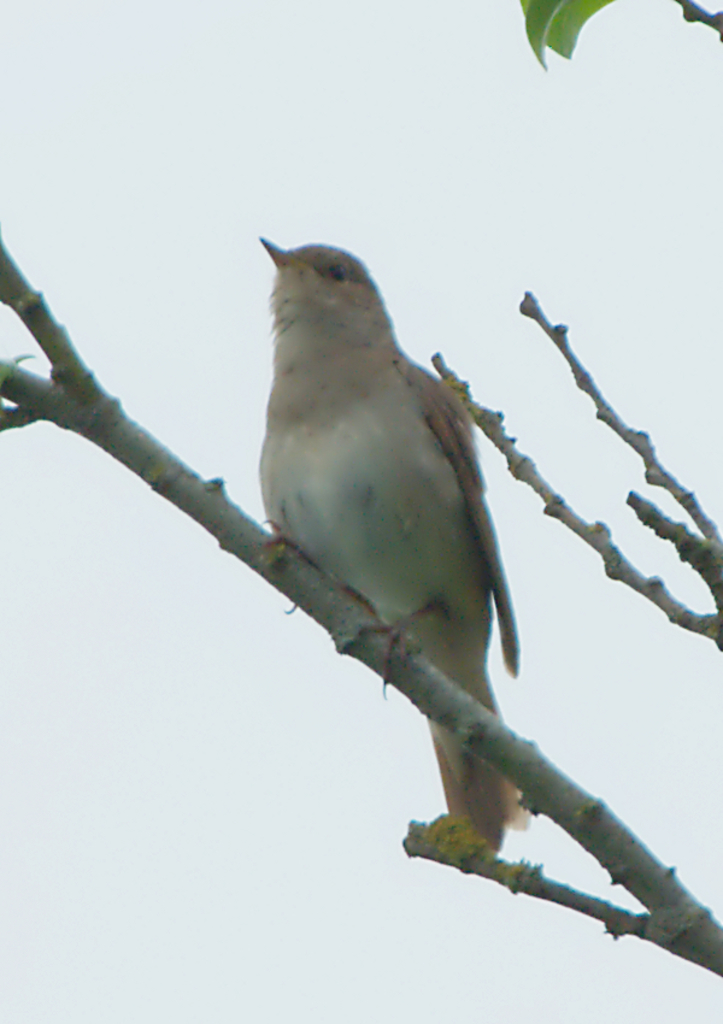Tree: (0, 0, 723, 977)
